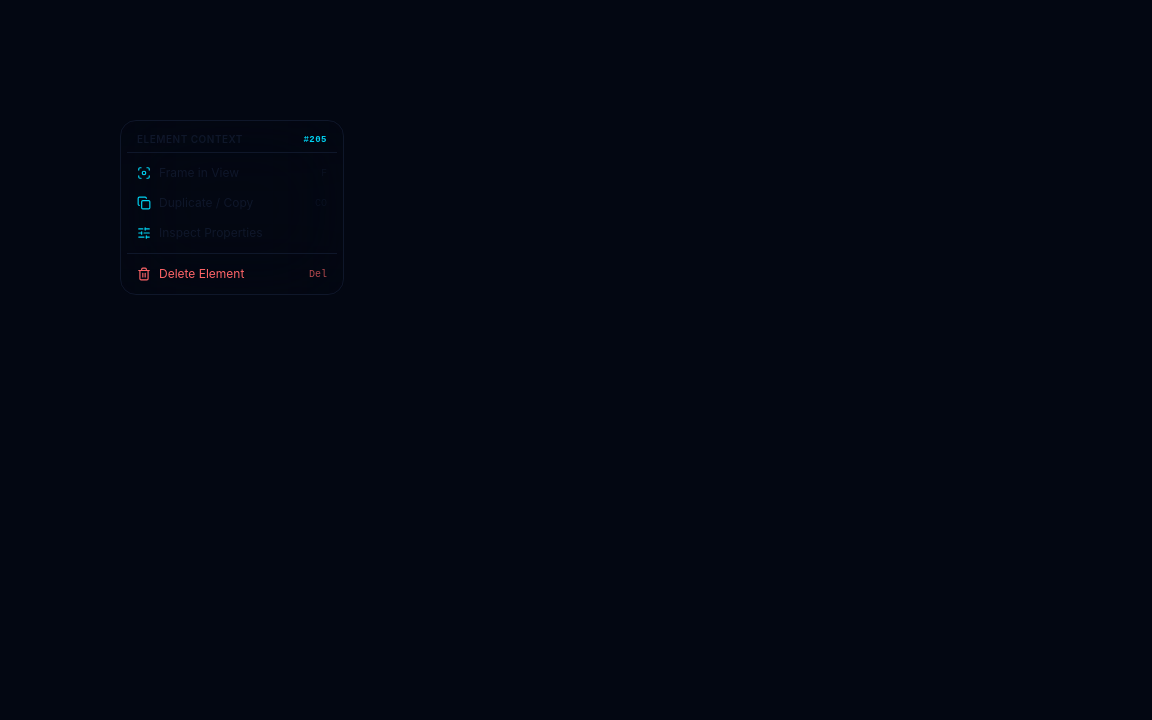
Test case: STEP-10 viewport context menu delete › asks for confirmation and never deletes on cancel
Click the button "Delete Element Del" at point(232, 274), box [127, 260, 337, 288]
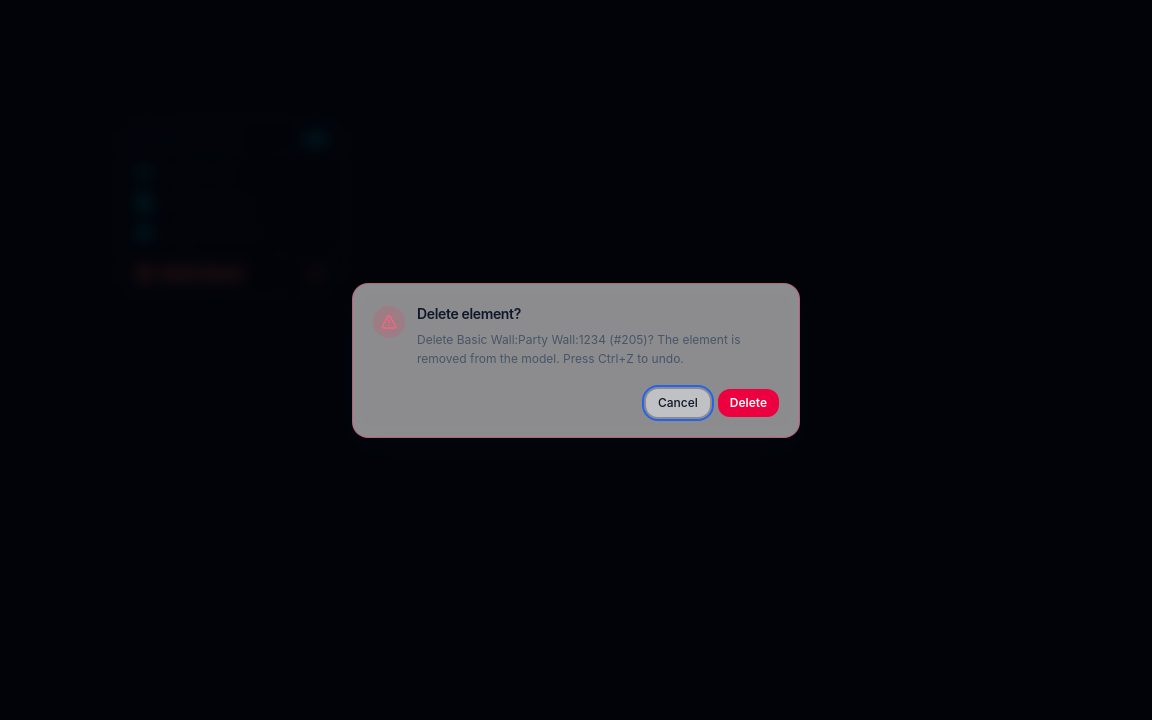
Result: the dialog shows "Basic Wall:Party Wall:1234" at [417, 332, 740, 366]
Result: the dialog shows "205" at [417, 332, 740, 366]
Click the button "Cancel" at point(678, 402), box [646, 388, 710, 416]
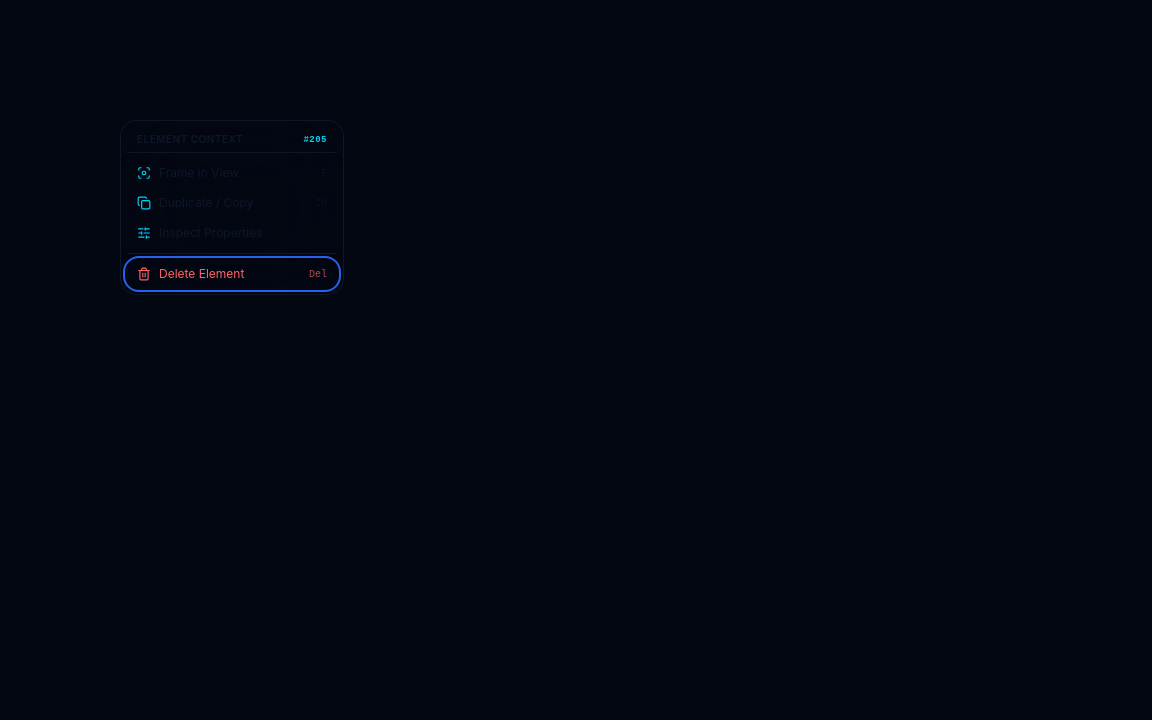
Result: the dialog is gone
